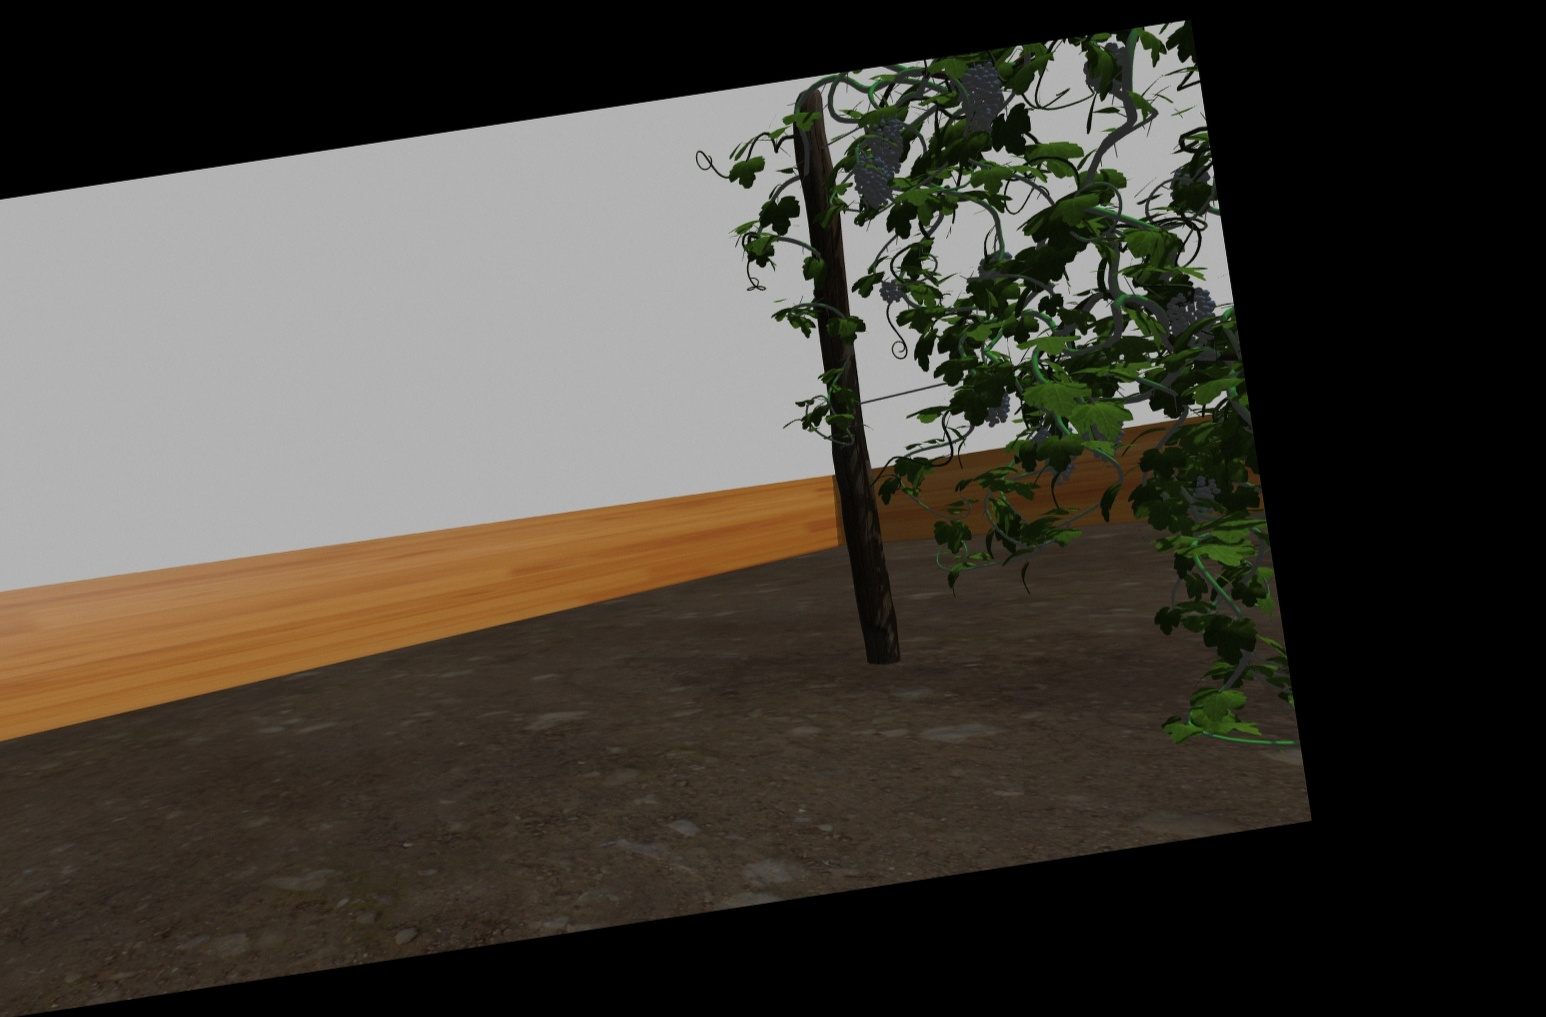grape: (959, 61, 1006, 134), (1163, 288, 1219, 348), (852, 156, 890, 210), (868, 119, 905, 173), (879, 278, 905, 306)
